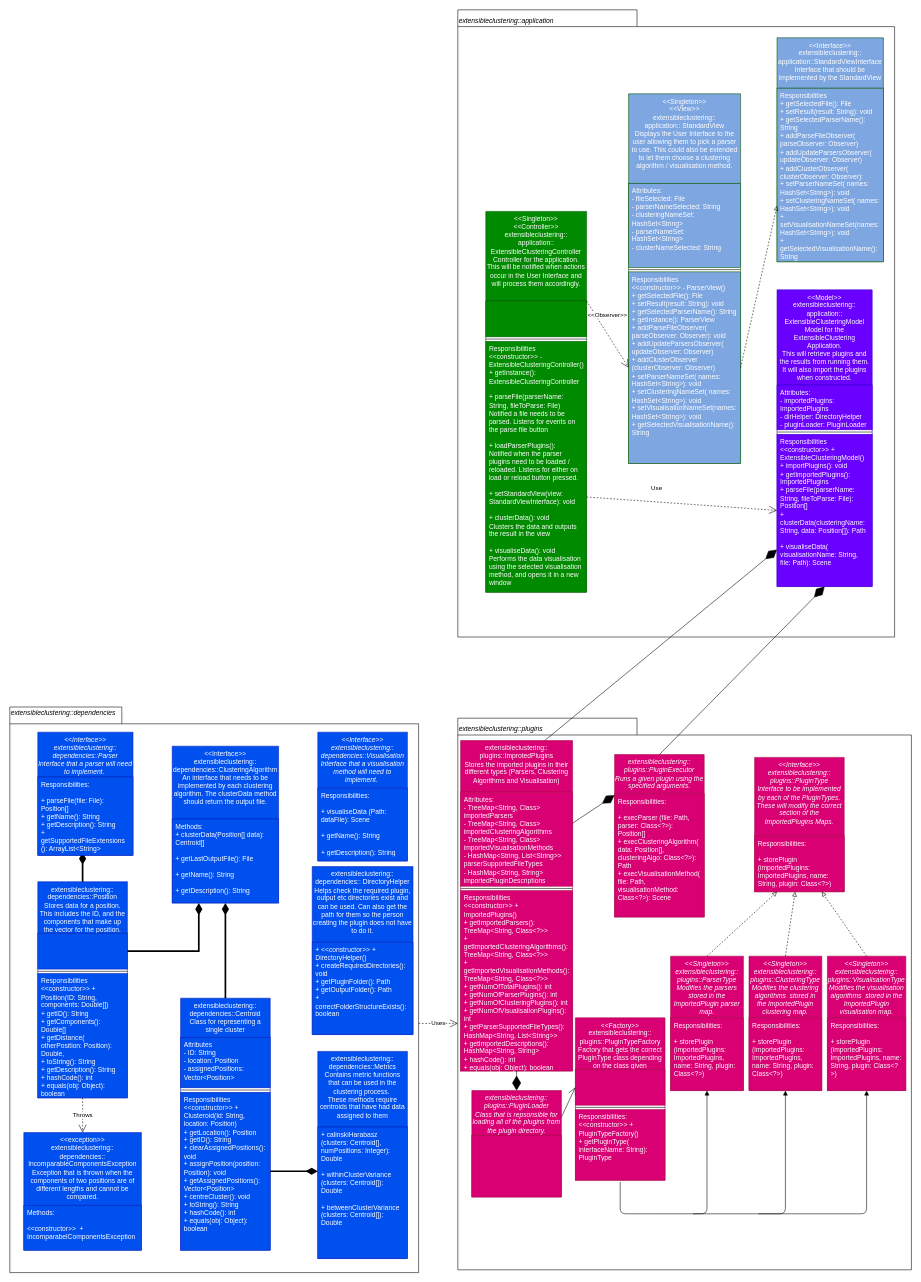
Some shapes in this 921 by 1282 pixel diagram are drawn without their labels. The shapes that lost their labels are listed below. From the top down, each one's box as (x1, y1, x2, y2) in pixels, then its label:
(485, 300, 587, 337): Attributes: - ecModel: ExtensibleClusteringModel
(37, 933, 127, 969): Attributes - ID: String - Components: Double[]
(575, 1069, 665, 1105): Attributes: - parserType: ParserType
(471, 1135, 561, 1197): Responsibilities: + loadPlugins(): ImportedPlugins
